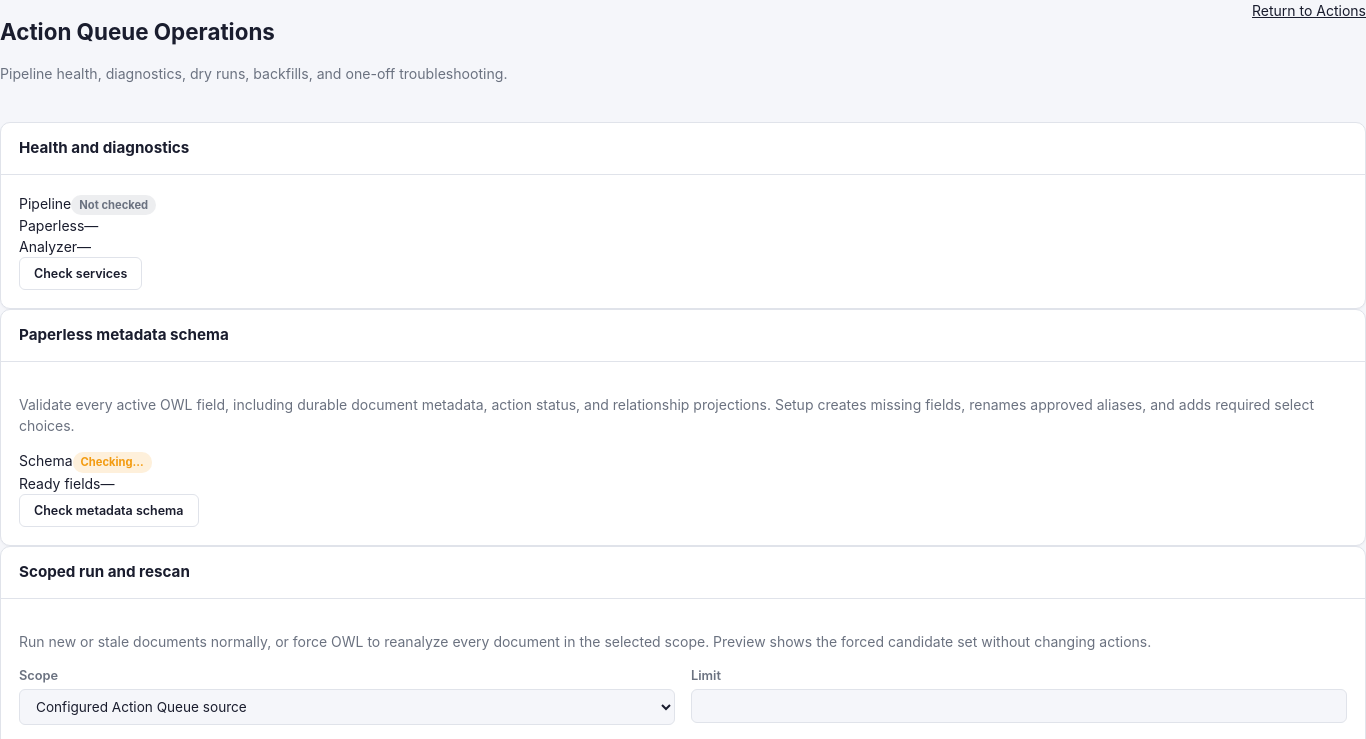
ActionQueueOperations › requires the selected scope value before running
Select "Saved view" in the dropdown labelled "Scope" at {"x": 347, "y": 707}, box [19,689,675,725]
(page scrolled)
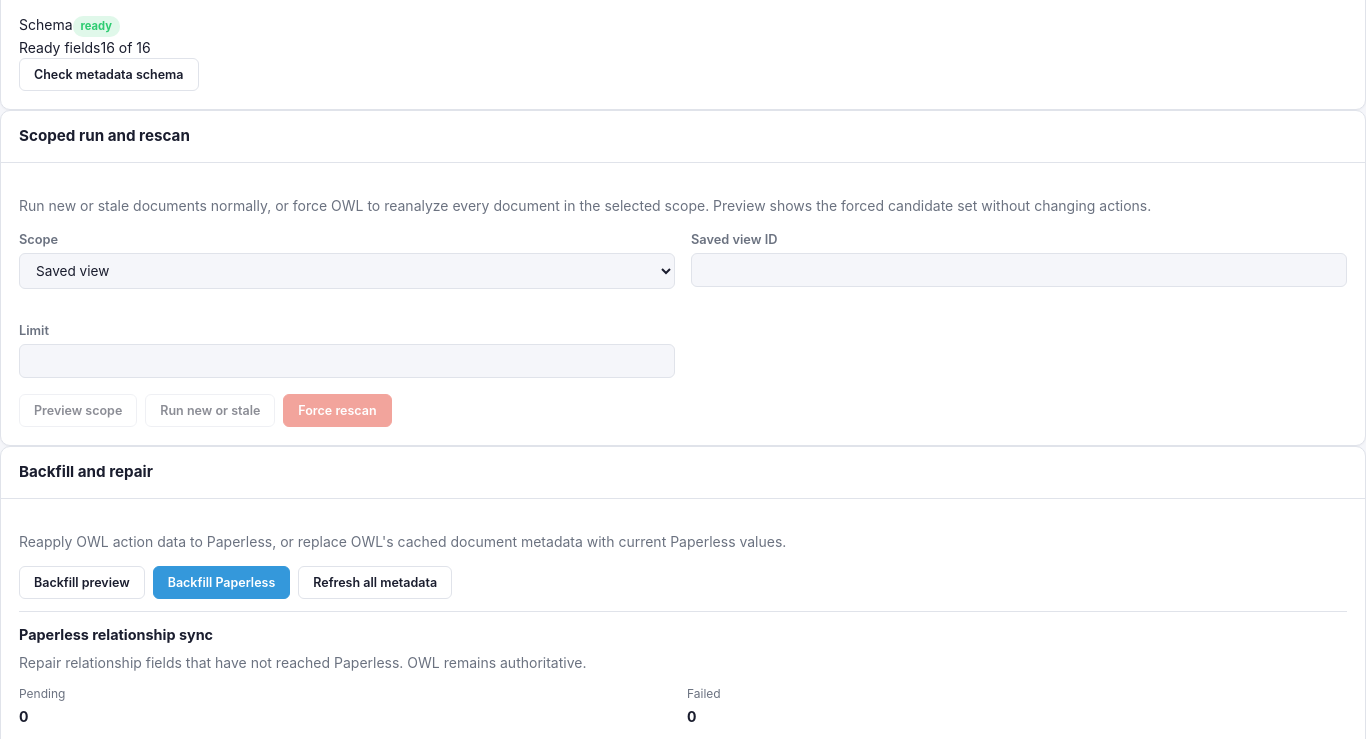
Check: the button "Preview scope" is disabled, box [19,394,137,427]
Check: the button "Run new or stale" is disabled, box [145,394,275,427]
Check: the button "Force rescan" is disabled, box [283,394,392,427]
